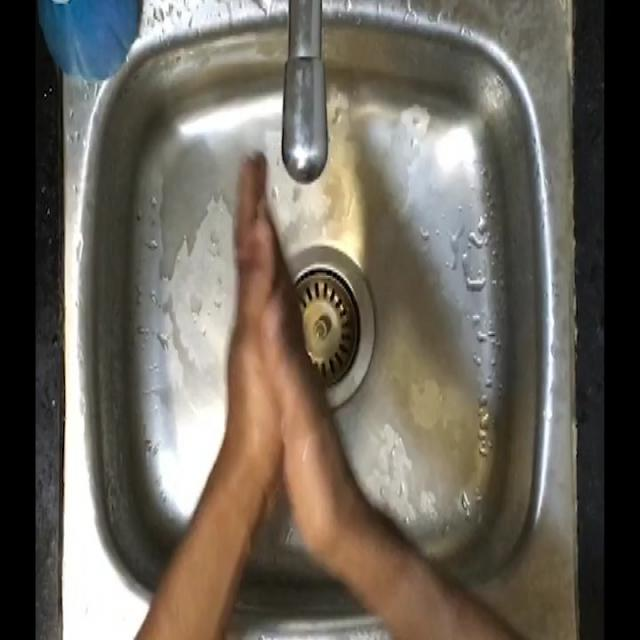step_1: (208, 142, 350, 475)
